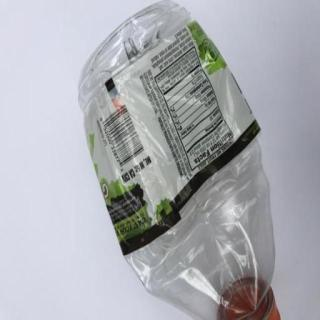Plastic-bottle: (78, 1, 284, 320)
